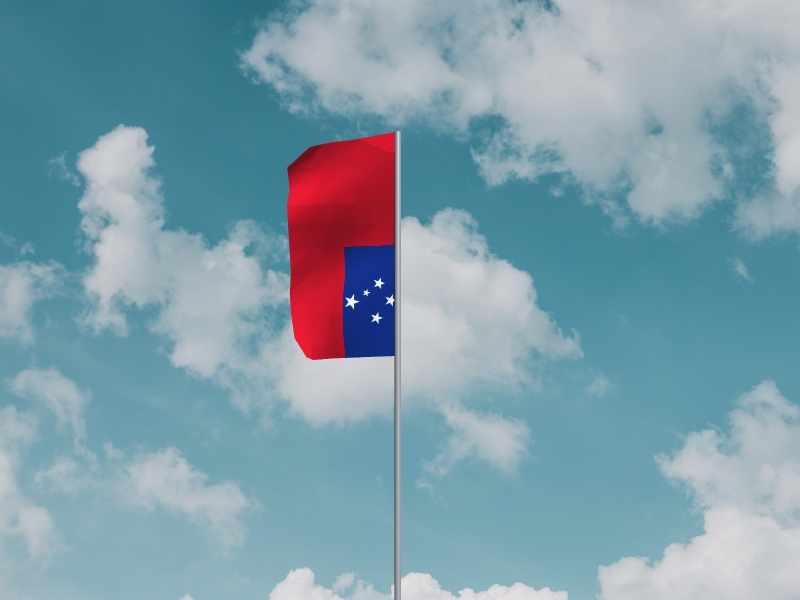ws: (286, 135, 396, 360)
